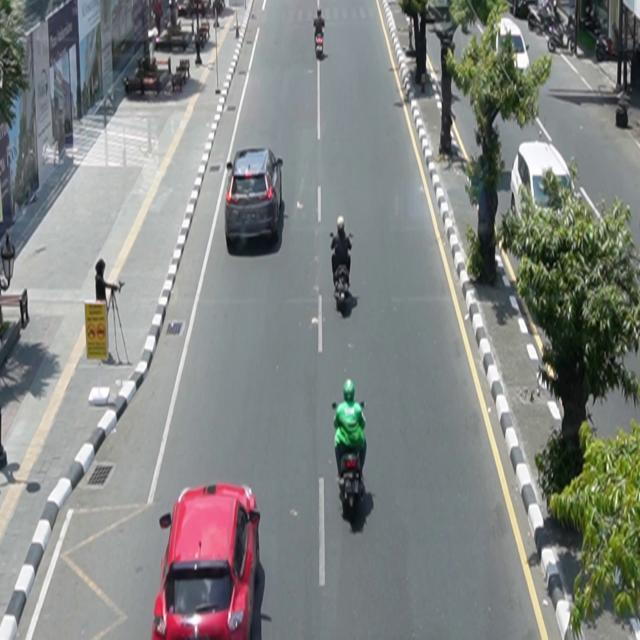car: (153, 484, 262, 640), (225, 147, 284, 247)
